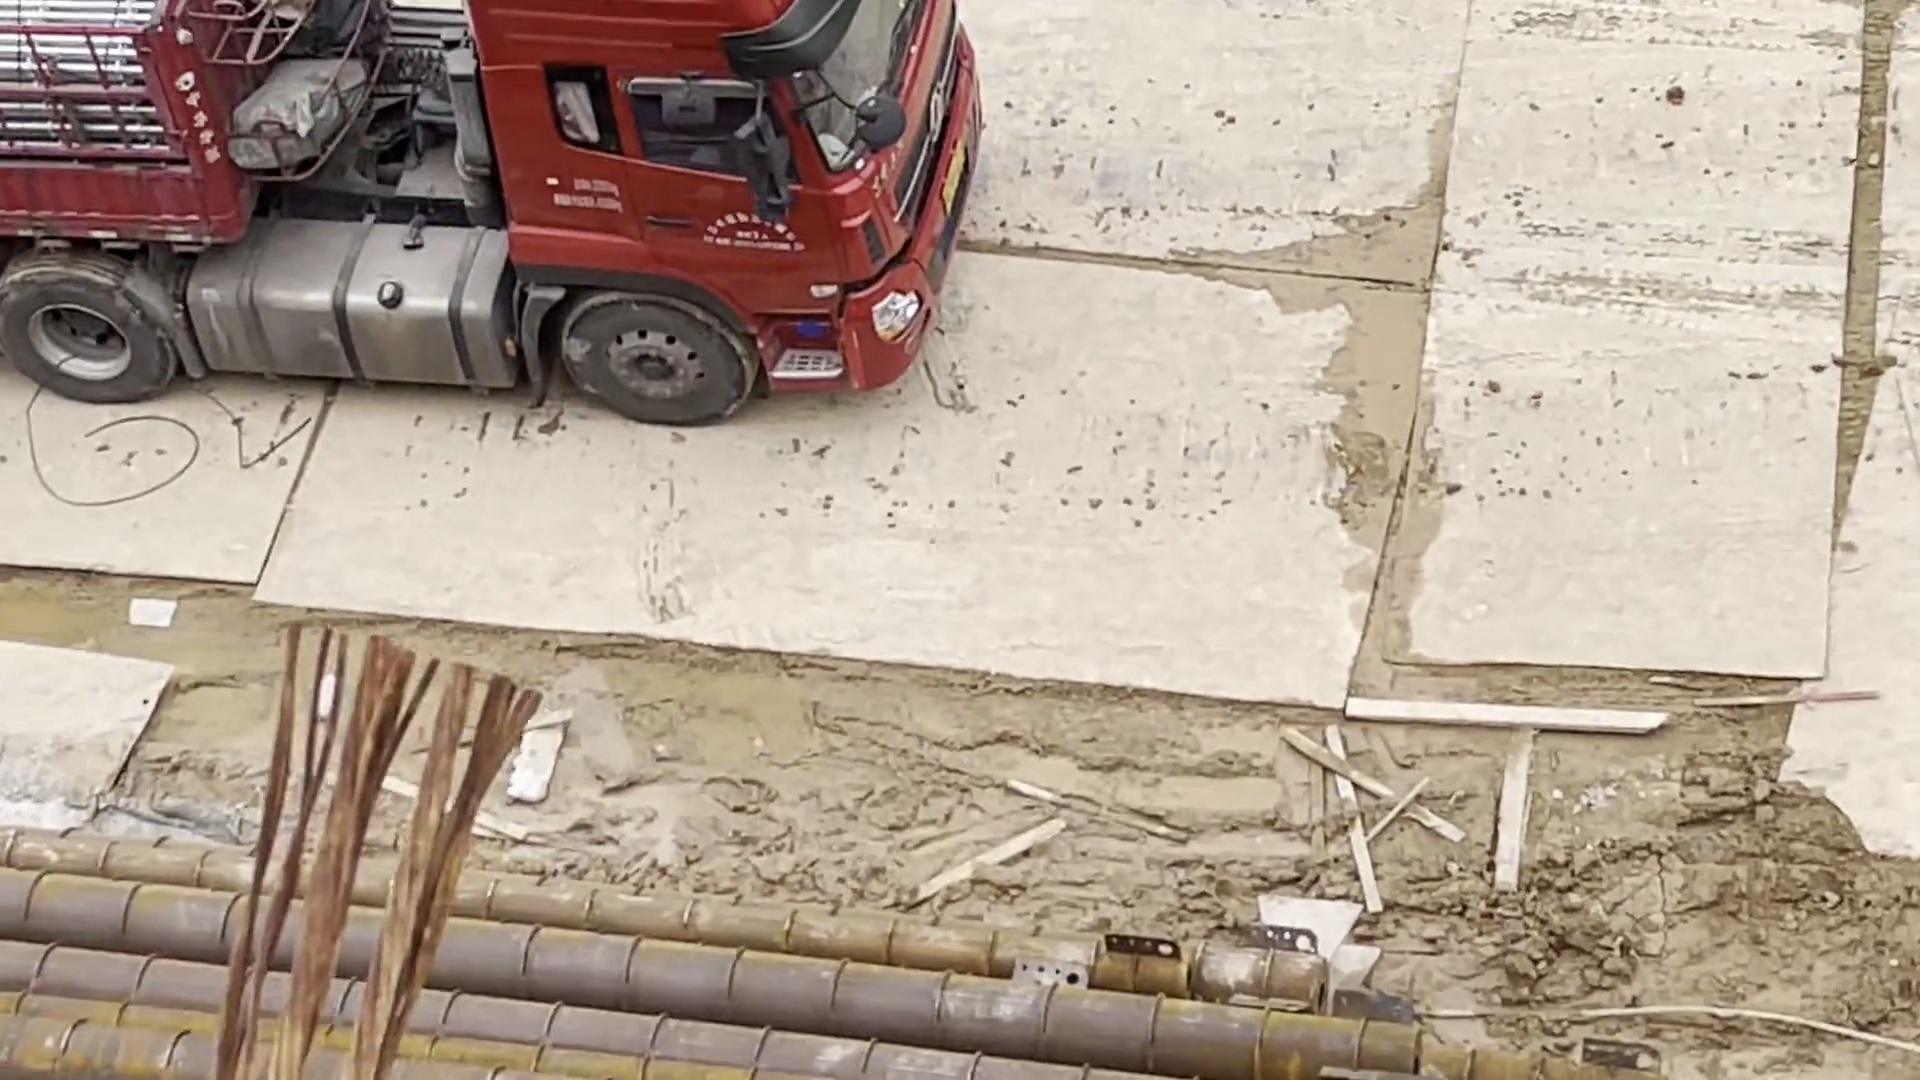scaffold: (3, 1, 195, 169)
